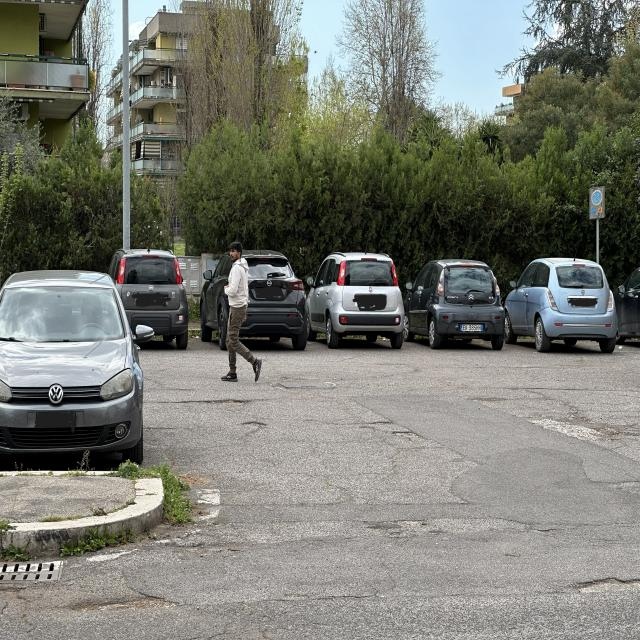number_plate: (460, 323, 484, 333)
